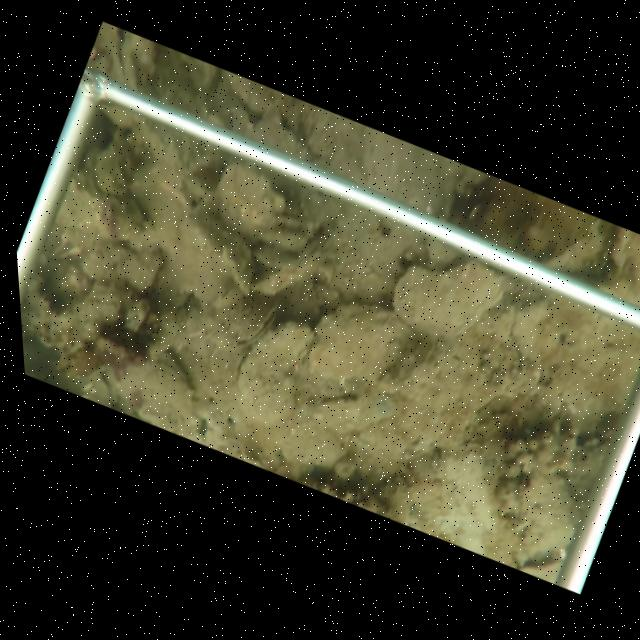Oyster-Closed: (381, 305, 528, 451), (199, 294, 280, 350), (213, 286, 241, 309)
Oyster-Indeterminate: (309, 304, 425, 386), (390, 258, 503, 339), (235, 320, 313, 427), (249, 236, 328, 294), (541, 218, 612, 276)
